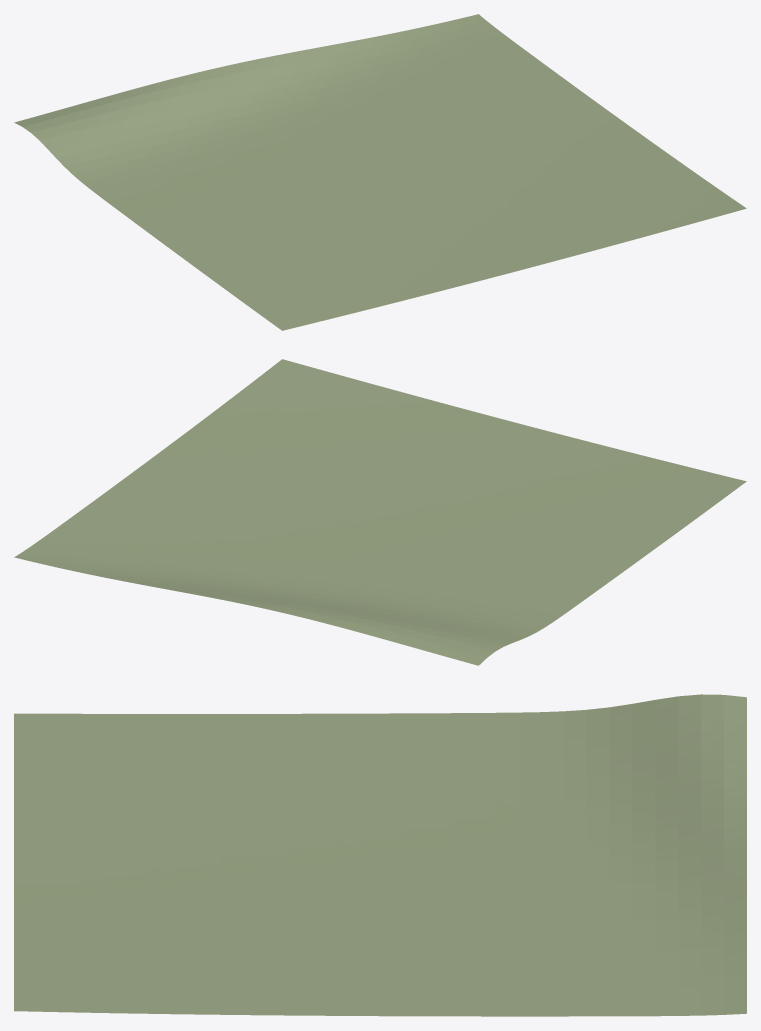
Rendered from lunar-1-2.glb.
3 renders of one model, top to bottom at view 1: azimuth 30°, elevation 25°; view 2: azimuth 150°, elevation 25°; view 3: azimuth 270°, elevation 25°, orthographic. The views are drawn at different scales.
Parts seen in each view (by area): view 1: lunar-1-2; view 2: lunar-1-2; view 3: lunar-1-2.
Boxes of the visible parts, x1,y1,x2,y2 form: lunar-1-2: [14, 14, 746, 330]; lunar-1-2: [14, 359, 746, 665]; lunar-1-2: [14, 694, 746, 1016].
Bounding box in the file's own units: 128 × 4.6 × 128.
